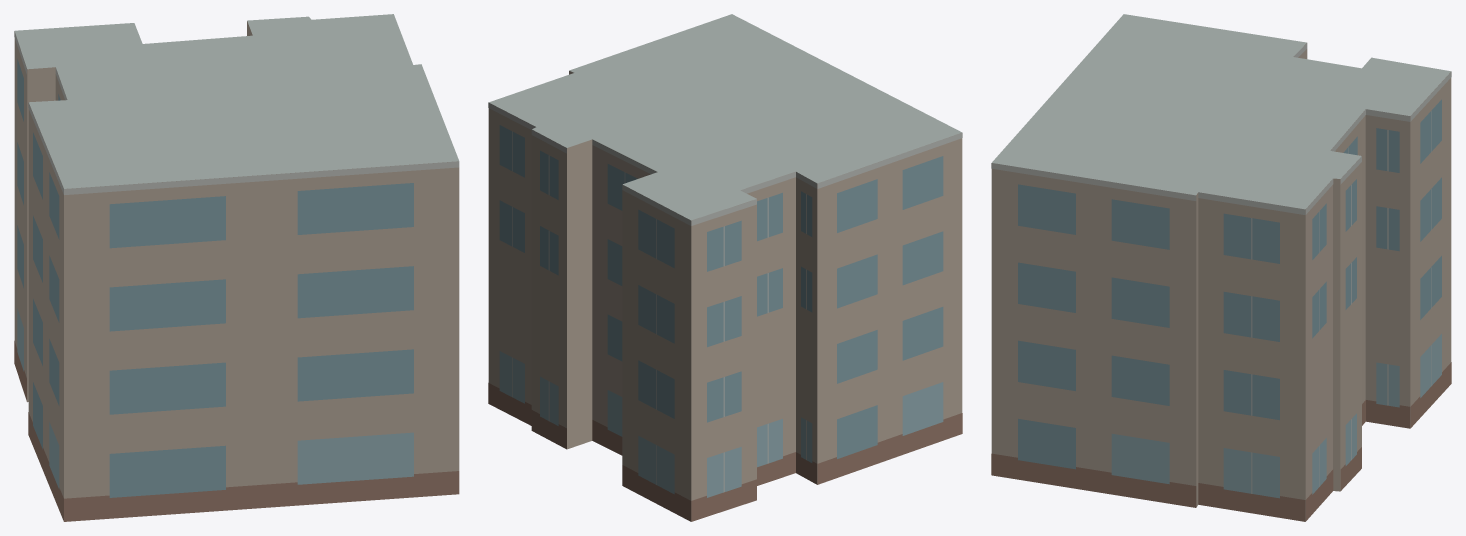
Rendered from survey-upis-32538058.glb.
3 renders of one model, left to right at view 1: azimuth 30°, elevation 25°; view 2: azimuth 150°, elevation 25°; view 3: azimuth 270°, elevation 25°, orthographic. The views are drawn at different scales.
Visible parts, largest first — view 1: survey-upis-32538058.tmp; view 2: survey-upis-32538058.tmp; view 3: survey-upis-32538058.tmp.
Boxes of the visible parts, x1,y1,x2,y2 form: survey-upis-32538058.tmp: (14,14,459,521); survey-upis-32538058.tmp: (488,14,962,521); survey-upis-32538058.tmp: (991,14,1451,521).
Bounding box in the file's own units: 17.58 × 13.1 × 17.48.
